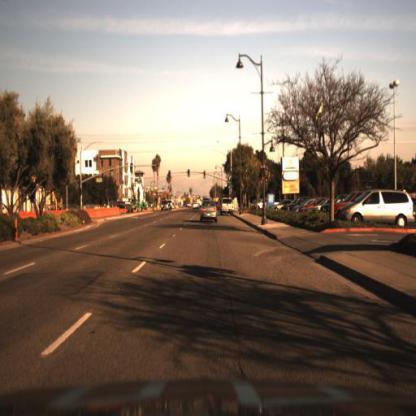car: (341, 188, 416, 237), (342, 188, 416, 228), (332, 187, 368, 220), (197, 199, 219, 226), (219, 193, 236, 218), (220, 198, 239, 219), (250, 200, 275, 213), (267, 202, 285, 215)
trafficLight-Green: (187, 167, 195, 180)
